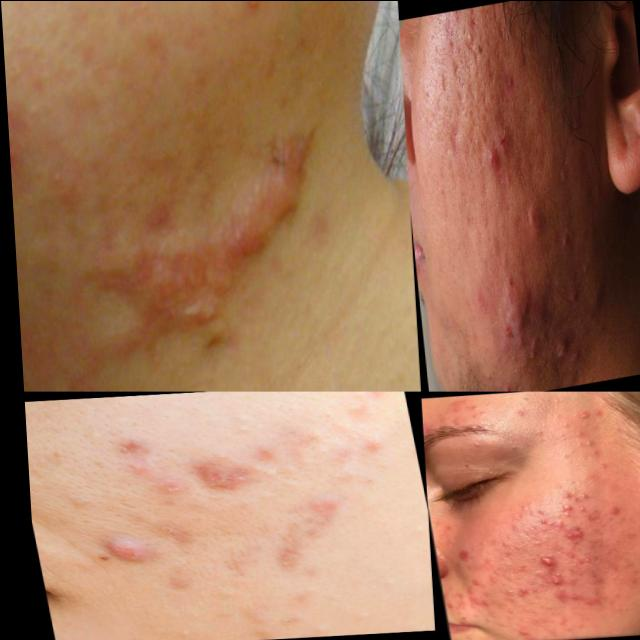6: (90, 108, 343, 378), (5, 112, 40, 196)
8: (482, 96, 524, 168), (78, 539, 153, 576), (540, 584, 567, 602), (503, 584, 524, 598), (447, 548, 467, 562), (572, 509, 590, 522), (600, 504, 619, 516), (461, 596, 476, 610), (472, 596, 487, 608), (435, 600, 449, 612), (572, 554, 588, 564), (461, 577, 476, 587), (508, 628, 522, 638), (559, 592, 573, 601), (558, 549, 570, 559)
9: (567, 406, 591, 422), (548, 502, 568, 520), (491, 376, 512, 391), (537, 575, 556, 589), (542, 569, 558, 578), (529, 516, 543, 526), (527, 507, 541, 517), (554, 490, 566, 498), (562, 495, 573, 503), (571, 506, 582, 514), (572, 492, 582, 500)
blackheads: (256, 526, 321, 588), (188, 457, 240, 501), (449, 56, 467, 108), (445, 120, 463, 164), (479, 52, 499, 88), (556, 524, 587, 542), (435, 66, 450, 102), (526, 552, 554, 568)
pustules: (490, 278, 538, 360), (521, 196, 542, 242), (480, 141, 497, 183), (546, 336, 569, 366)
